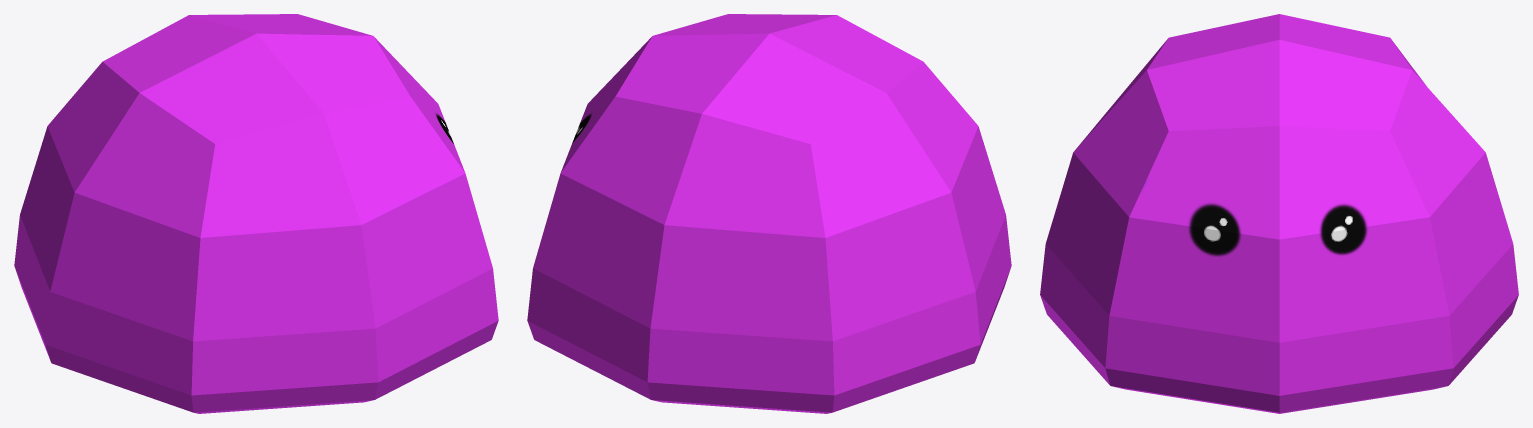
Rendered from Slime.fbx.
3 views of the same model, side by side, from view 1: azimuth 30°, elevation 25°; view 2: azimuth 150°, elevation 25°; view 3: azimuth 270°, elevation 25° (orthographic).
Parts seen in each view (by area): view 1: Cube; view 2: Cube; view 3: Cube.
Boxes of the visible parts, <box> form: Cube: <box>14,14,498,413</box>; Cube: <box>527,14,1011,413</box>; Cube: <box>1040,14,1518,413</box>.
Bounding box in the file's own units: 172 × 116 × 172.
